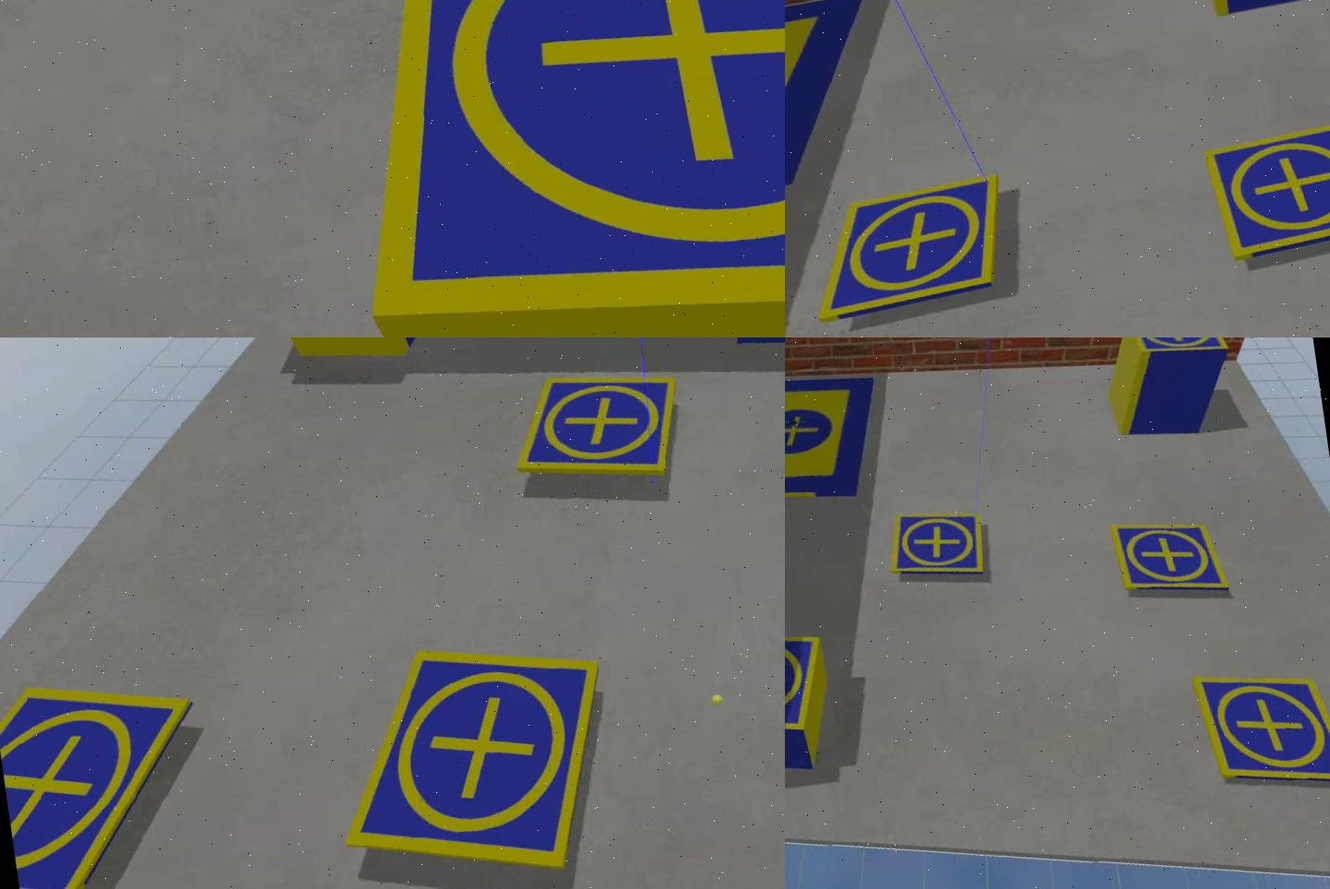large_base: (783, 1, 888, 227), (783, 363, 886, 519)
small_base: (309, 1, 783, 338), (315, 623, 625, 889), (0, 663, 220, 889), (799, 175, 1012, 330), (502, 360, 689, 498), (1193, 657, 1328, 802), (1205, 117, 1328, 264), (1110, 510, 1229, 609), (885, 508, 993, 590), (783, 622, 831, 747), (1123, 338, 1229, 363)
